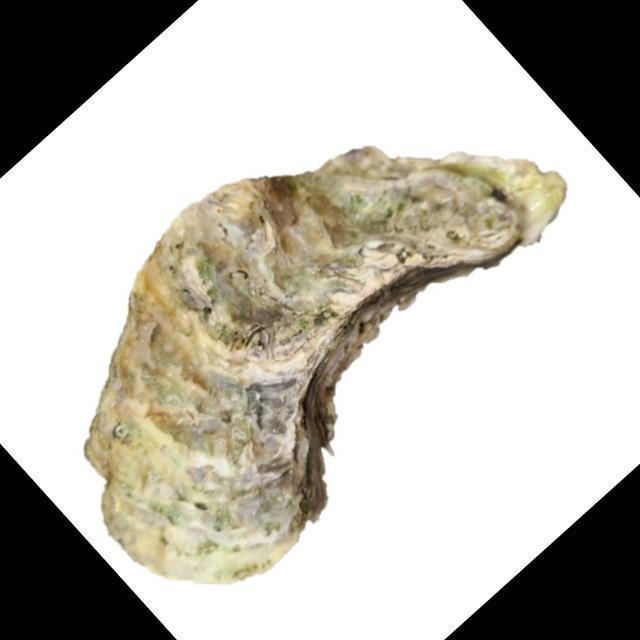Oyster- Indeterminate: (83, 146, 567, 588)
